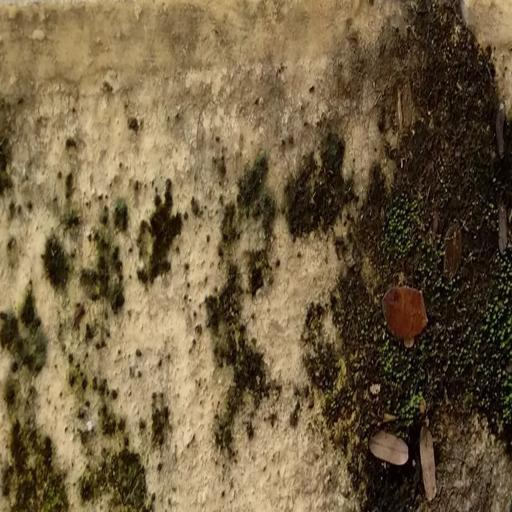algae: (271, 14, 512, 512)
